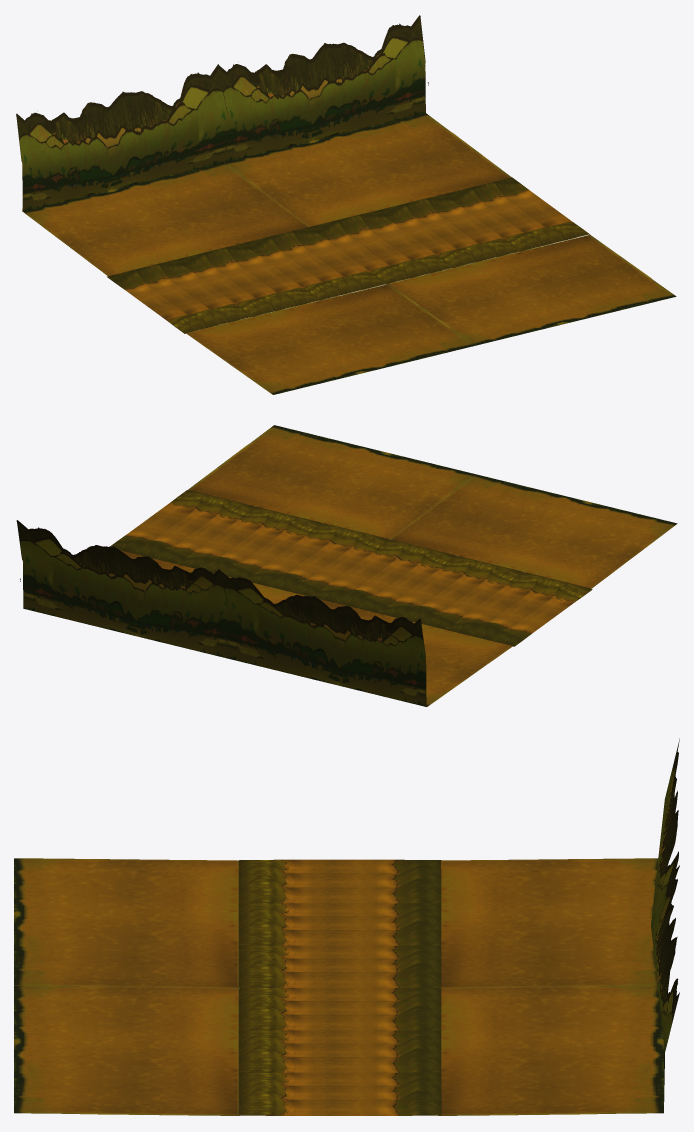
File: stage2_heigen.fbx
The picture shows the model from 3 angles, top to bottom: view 1: azimuth 30°, elevation 25°; view 2: azimuth 150°, elevation 25°; view 3: azimuth 270°, elevation 25°; orthographic projection. The views are drawn at different scales.
Parts seen in each view (by area): view 1: grid32, grid31, polymsh; view 2: grid32, grid31, polymsh; view 3: grid31, grid32, polymsh.
Boxes of the visible parts, left/top/right/bottom form: grid32: left=16, top=64, right=475, bottom=394; grid31: left=217, top=15, right=676, bottom=345; polymsh: left=107, top=177, right=589, bottom=333; grid32: left=218, top=474, right=677, bottom=706; grid31: left=16, top=425, right=476, bottom=657; polymsh: left=110, top=490, right=592, bottom=646; grid31: left=14, top=865, right=679, bottom=1115; grid32: left=14, top=738, right=679, bottom=987; polymsh: left=238, top=859, right=441, bottom=1115.
Size of the model in its own units: 26.64 by 5.94 by 29.01.
